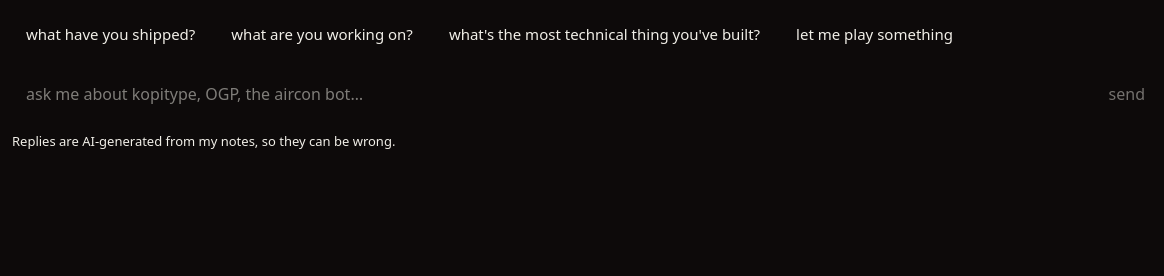
Test: homepage chat › shows no card when the answer says it isn't sure
This screenshot has width=1164, height=276.
Type "what's your favourite colour?" into the field named "Ask Anselm" at (557, 94), box [26,74,1088,114]
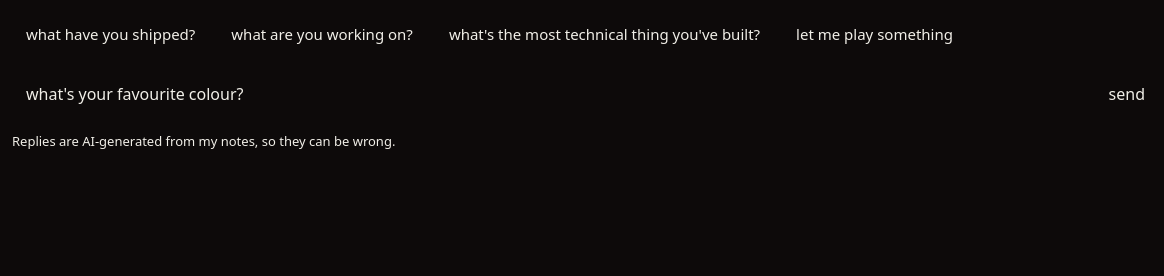
Click the button "send" at (1127, 94), box [1096,74,1158,114]
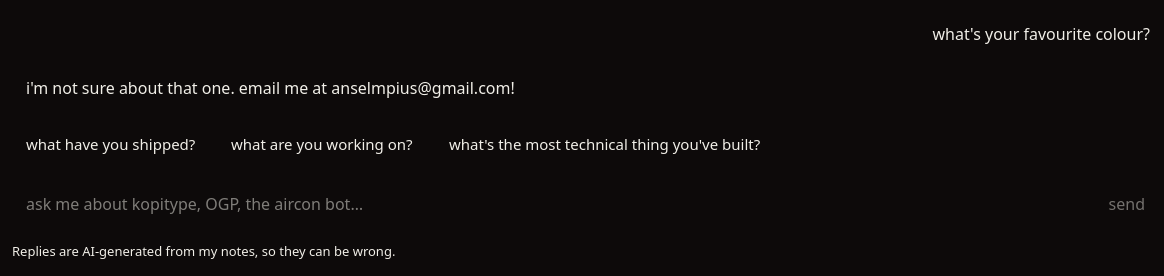
Result: the text "not sure" is shown at [26,77,515,99]
